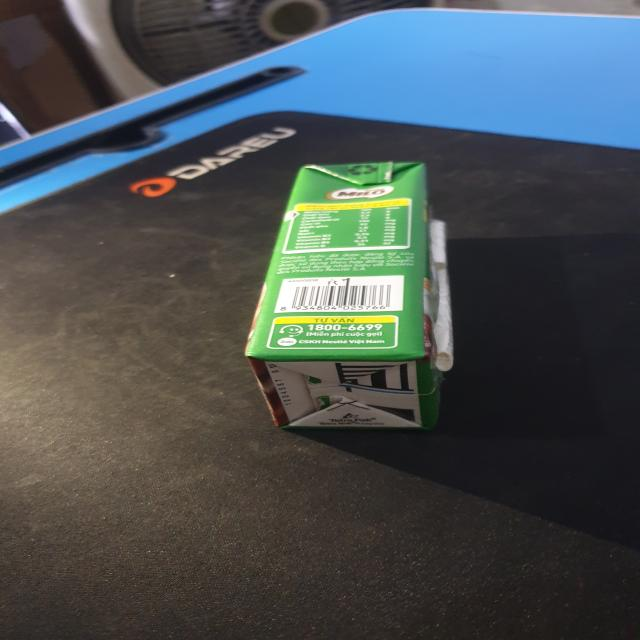Milo: (241, 163, 438, 425)
